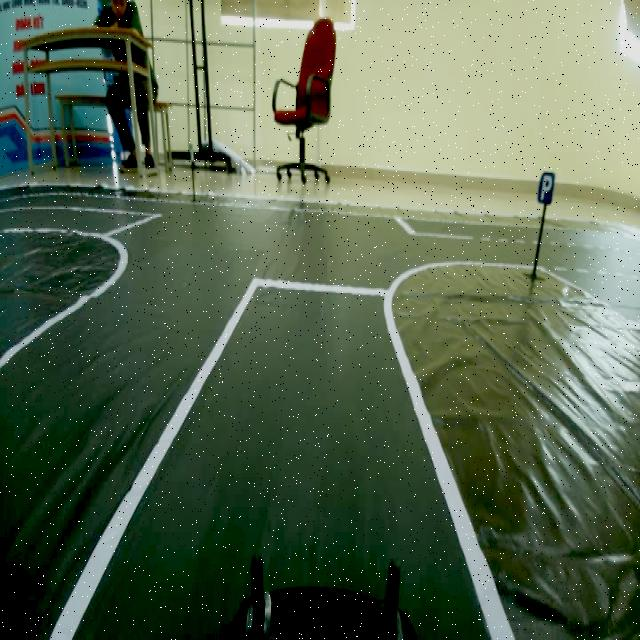parking: (536, 168, 560, 212)
